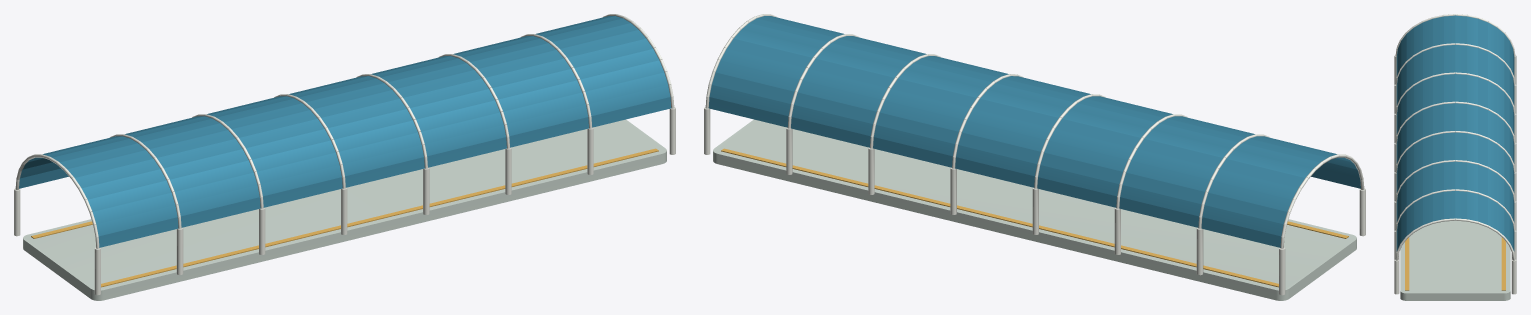
The model's file is station-canopy.glb.
3 renders of one model, left to right at view 1: azimuth 30°, elevation 25°; view 2: azimuth 150°, elevation 25°; view 3: azimuth 270°, elevation 25°, orthographic. The views are drawn at different scales.
Visible parts, largest first — view 1: blue station vault, raised platform, station canopy arch, platform safety strip; view 2: blue station vault, raised platform, station canopy arch, platform safety strip; view 3: blue station vault, raised platform, station canopy arch, platform safety strip.
Boxes of the visible parts, x1,y1,x2,y2 form: blue station vault: (19, 16, 671, 247); raised platform: (23, 119, 666, 300); station canopy arch: (14, 14, 675, 295); platform safety strip: (31, 148, 658, 287); blue station vault: (708, 16, 1360, 247); raised platform: (713, 119, 1356, 300); station canopy arch: (704, 14, 1365, 295); platform safety strip: (721, 148, 1348, 287); blue station vault: (1396, 15, 1514, 251); raised platform: (1400, 220, 1510, 300); station canopy arch: (1394, 14, 1516, 294); platform safety strip: (1405, 237, 1505, 290).
Bounding box in the file's own units: 14.14 × 2.64 × 3.54.
